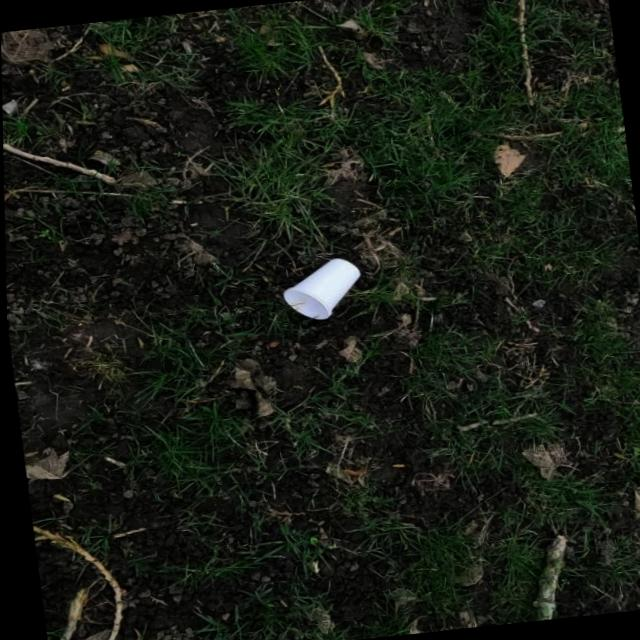Cup: (274, 255, 365, 324)
